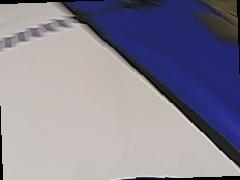CrossWalk: (1, 13, 83, 49)
